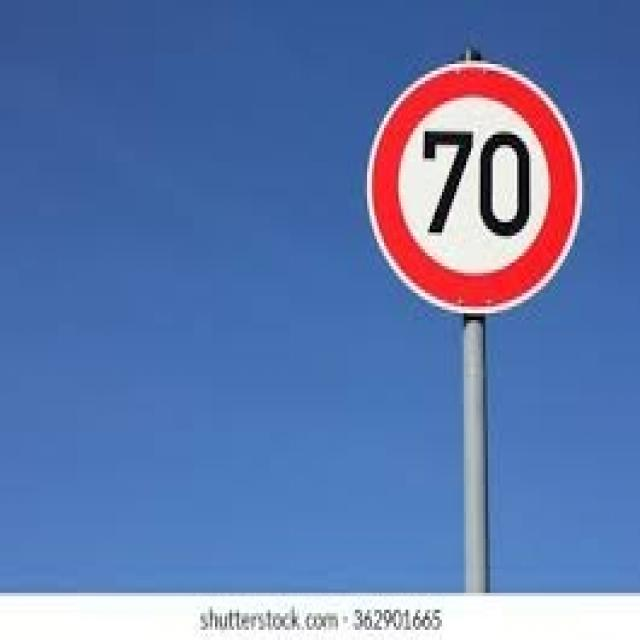speed_limit_70: (368, 52, 584, 318)
